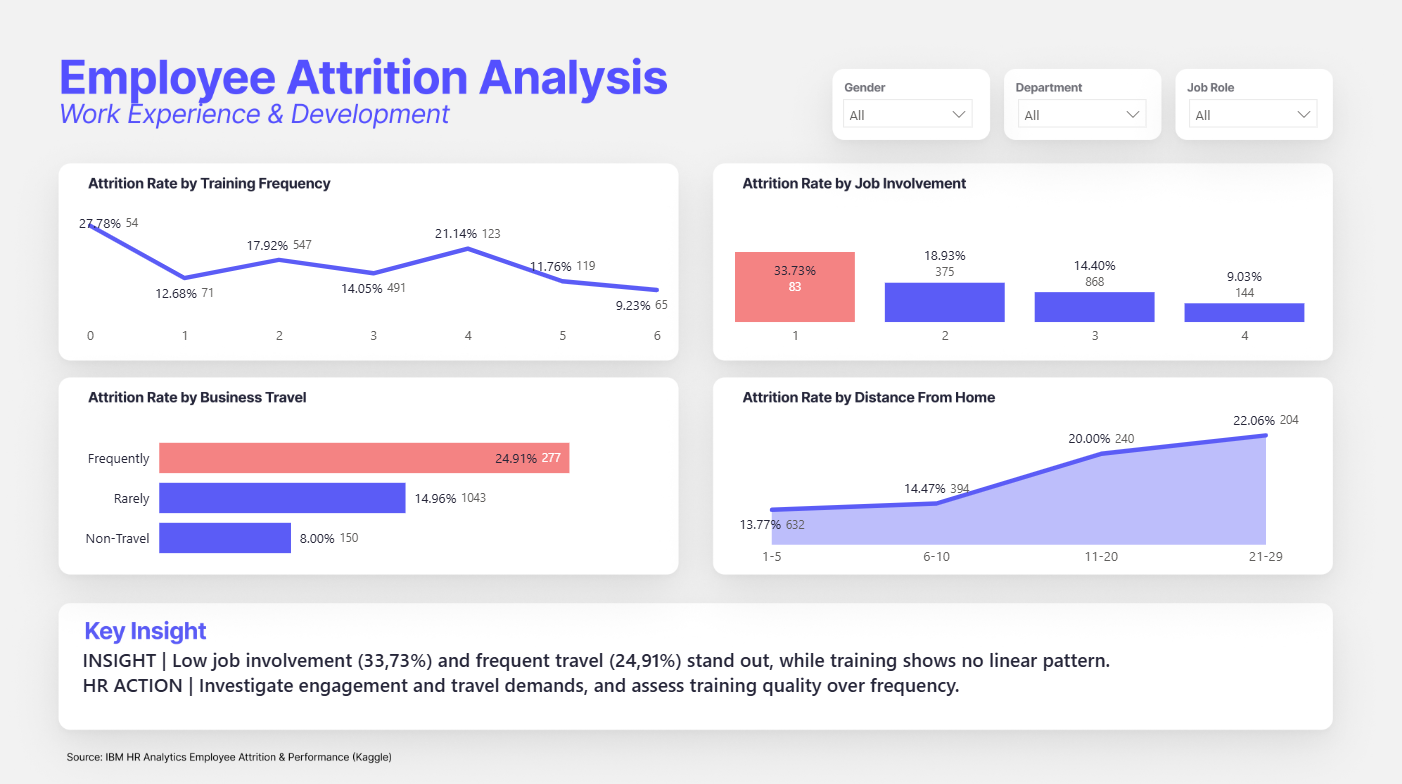

What the dashboard file says about the page in this screenshot:
{"tool":"powerbi","page":{"name":"Work Experience & Development","canvas":[1280,720],"ordinal":2},"visuals":[{"type":"image","box":[0,0,1280,720],"z":0},{"type":"columnChart","fields":{"Category":["Planilha1.JobInvolvement"],"Y":["Planilha1.Attrition_Rate"]},"box":[668.8,196.1,518,121.5],"z":1000},{"type":"barChart","fields":{"Category":["Planilha1.BusinessTravel"],"Y":["Planilha1.Attrition_Rate"]},"box":[71.7,380.5,493.2,139],"z":2000},{"type":"areaChart","fields":{"Category":["Planilha1.distance group"],"Y":["Planilha1.Attrition_Rate"]},"box":[642.4,362.9,569.3,156.6],"z":3000},{"type":"lineChart","fields":{"Category":["Planilha1.TrainingTimesLastYear"],"Y":["Planilha1.Attrition_Rate"]},"box":[71.7,188.8,535.6,128.8],"z":4000},{"type":"slicer","fields":{"Values":["Planilha1.Gender"]},"box":[756.6,80.5,137.6,42.4],"z":5000},{"type":"slicer","fields":{"Values":["Planilha1.Department"]},"box":[916,80.3,136.7,42.7],"z":6000},{"type":"slicer","fields":{"Values":["Planilha1.JobRole"]},"box":[1071.5,80.3,136.7,42.7],"z":7000},{"type":"cardVisual","fields":{"Data":["Planilha1.Work_Experience_Insight"]},"box":[51.2,537.1,1156.1,146.3],"z":8000}]}

Visuals, with their boxes in screenshot pixels (x1, y1, x2, y2), scaled from the page's 1280x720 canvas onto the 1402x784 screenshot:
image: rect(0, 0, 1401, 783)
columnChart - Planilha1.JobInvolvement x Planilha1.Attrition_Rate: rect(733, 214, 1300, 346)
barChart - Planilha1.BusinessTravel x Planilha1.Attrition_Rate: rect(79, 414, 619, 566)
areaChart - Planilha1.distance group x Planilha1.Attrition_Rate: rect(704, 395, 1327, 566)
lineChart - Planilha1.TrainingTimesLastYear x Planilha1.Attrition_Rate: rect(79, 206, 665, 346)
slicer - Planilha1.Gender: rect(829, 88, 979, 134)
slicer - Planilha1.Department: rect(1003, 87, 1153, 134)
slicer - Planilha1.JobRole: rect(1174, 87, 1323, 134)
cardVisual - Planilha1.Work_Experience_Insight: rect(56, 585, 1322, 744)
